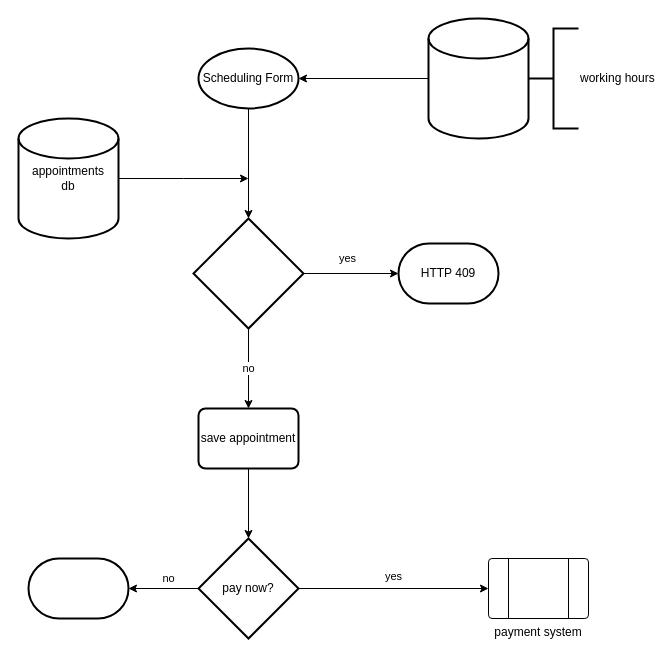
The diagram is 672 pixels wide and 656 high, and some of its shapes have lost their labels. The shapes that lost their labels are listed below. From the top down, each one's centre as x and y in pixels, then its label:
At pixel 478 78: "available times".
At pixel 248 273: "conflicting times?".
At pixel 78 588: "done".
